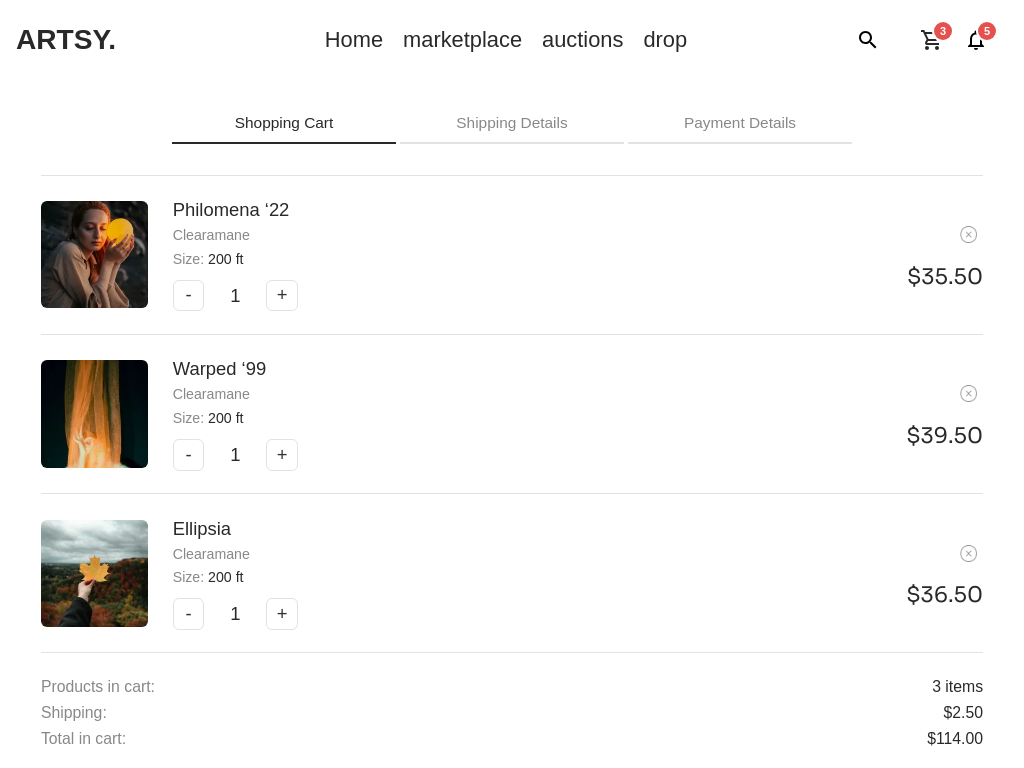
Test: cart badge appears once something is added
The image size is (1024, 768).
expect the number of elements with class "cart_item" is 3: met, box [41, 175, 983, 334]; [41, 334, 983, 493]; [41, 493, 983, 652]
Click the button named "Remove Philomena ‘22 from cart". click: (968, 235)
box: [954, 220, 983, 249]
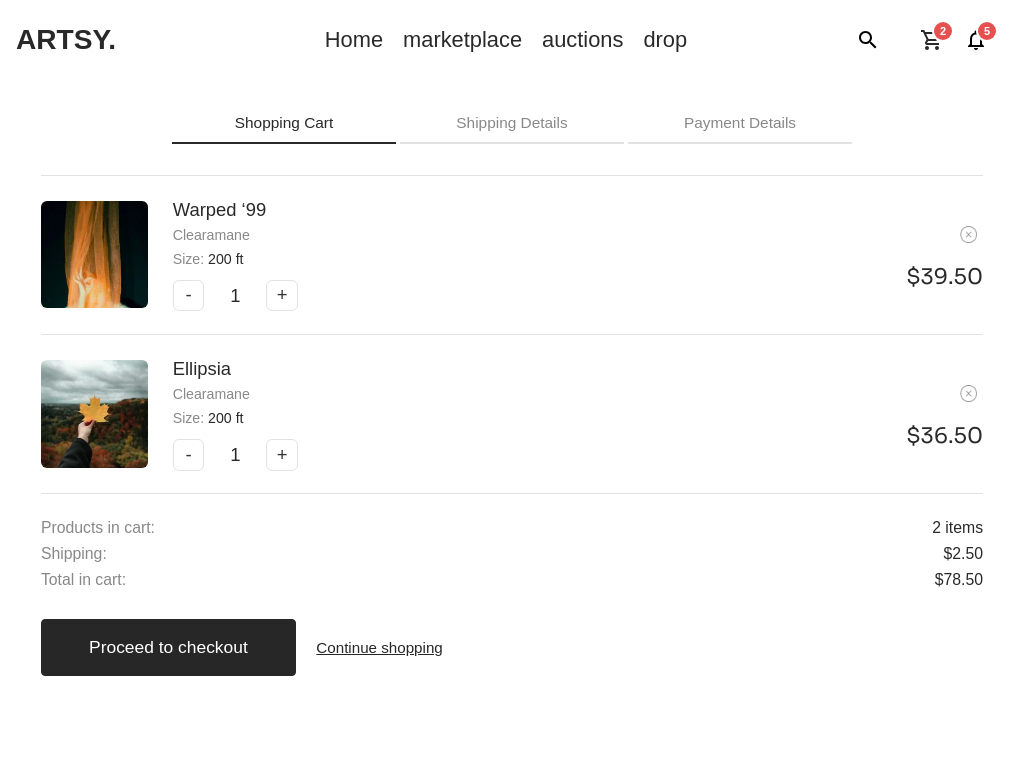
expect the number of elements with class "cart_item" is 2: met, box [41, 175, 983, 334]; [41, 334, 983, 493]
